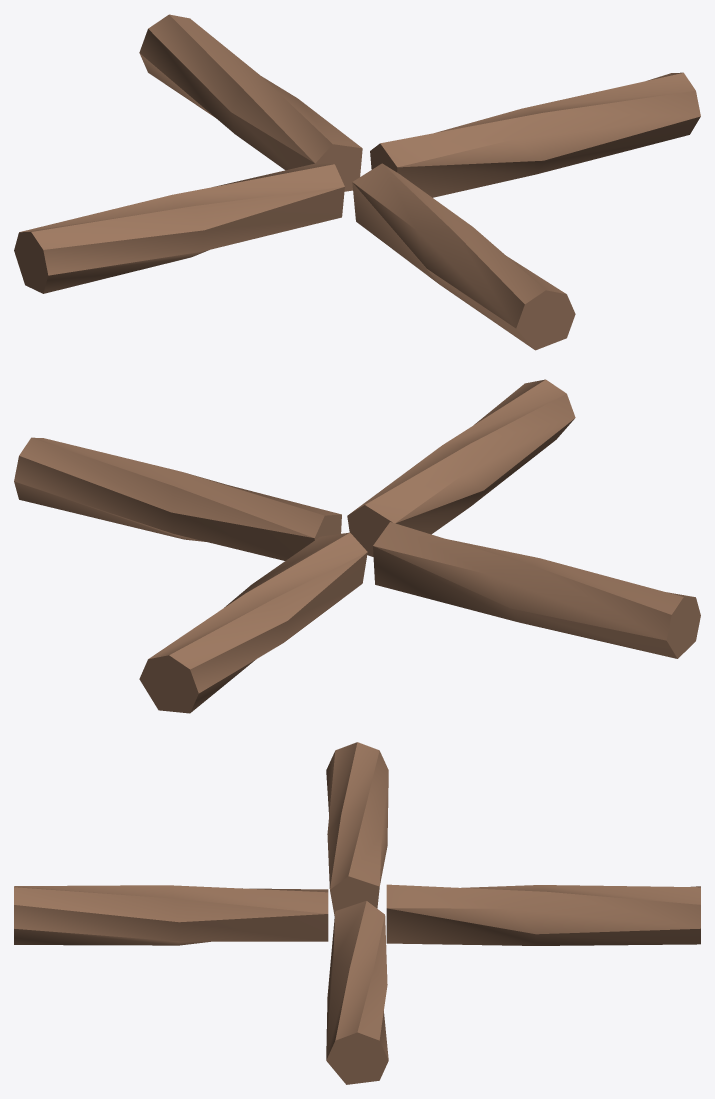
File: Spin Logs.fbx
3 renders of one model, top to bottom at view 1: azimuth 30°, elevation 25°; view 2: azimuth 150°, elevation 25°; view 3: azimuth 270°, elevation 25°, orthographic. The views are drawn at different scales.
Visible parts, largest first — view 1: Long_Log_1_3, Long_Log_1_1, Long_Log_1_2, Long_Log_1_0; view 2: Long_Log_1_3, Long_Log_1_1, Long_Log_1_0, Long_Log_1_2; view 3: Long_Log_1_0, Long_Log_1_2, Long_Log_1_1, Long_Log_1_3.
Part boxes in pixels (x1,y1,x2,y2): Long_Log_1_3: (14,163,344,293); Long_Log_1_1: (370,72,700,197); Long_Log_1_2: (352,163,575,350); Long_Log_1_0: (139,14,362,191); Long_Log_1_3: (373,522,700,658); Long_Log_1_1: (14,437,341,560); Long_Log_1_0: (139,532,367,713); Long_Log_1_2: (347,379,575,556); Long_Log_1_0: (386,884,700,945); Long_Log_1_2: (14,885,328,945); Long_Log_1_1: (326,901,388,1084); Long_Log_1_3: (326,742,388,915).
Bounding box in the file's own units: 1427 × 127 × 1427.
